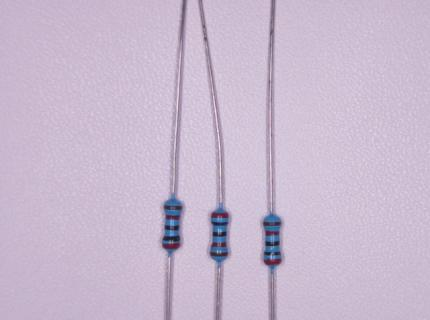Black band: (163, 236, 181, 241), (213, 232, 227, 237), (165, 225, 179, 230), (265, 242, 280, 246), (211, 222, 228, 225), (264, 252, 280, 255)
Brown band: (164, 206, 182, 210), (211, 252, 227, 256), (264, 222, 280, 226)
Red band: (163, 243, 180, 249), (264, 259, 281, 264), (211, 242, 227, 247), (166, 215, 180, 220), (265, 231, 279, 236), (211, 213, 228, 217)
